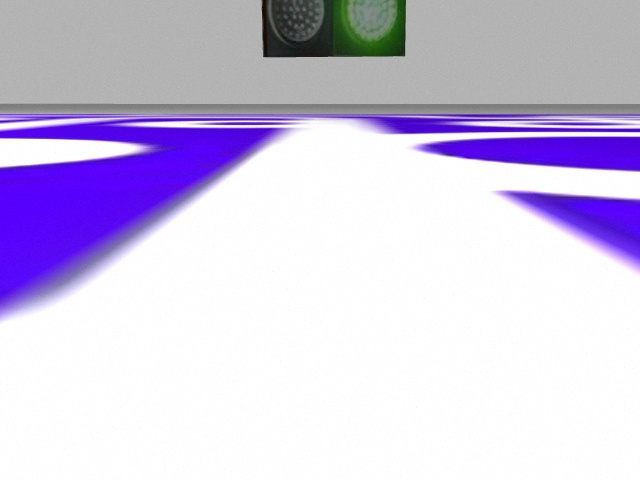green: (331, 1, 405, 57)
